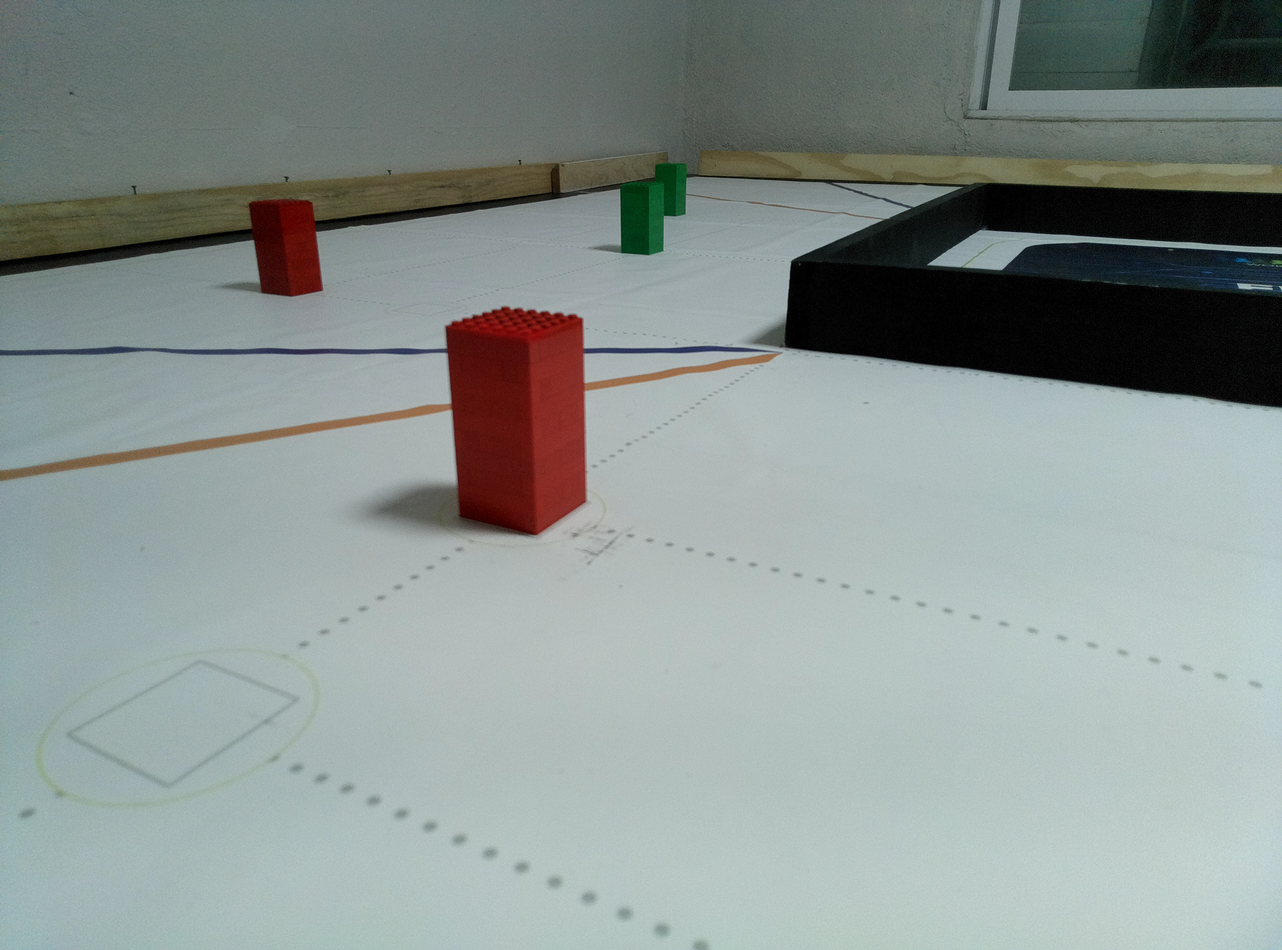greenbox: (620, 181, 664, 256), (655, 163, 687, 216)
redbox: (445, 303, 589, 536), (247, 199, 324, 297)
